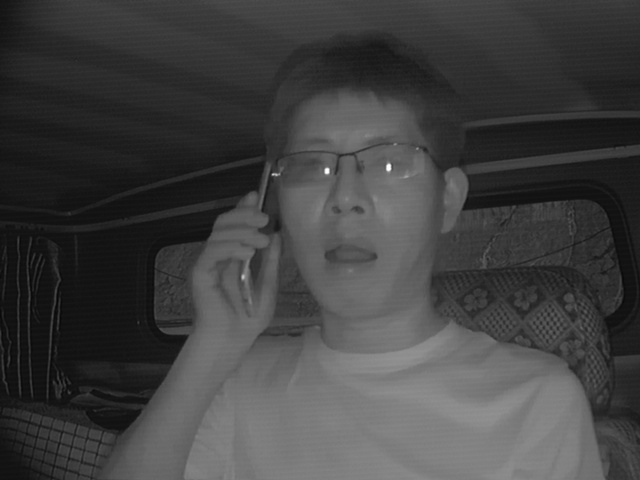hand: (191, 195, 281, 335)
